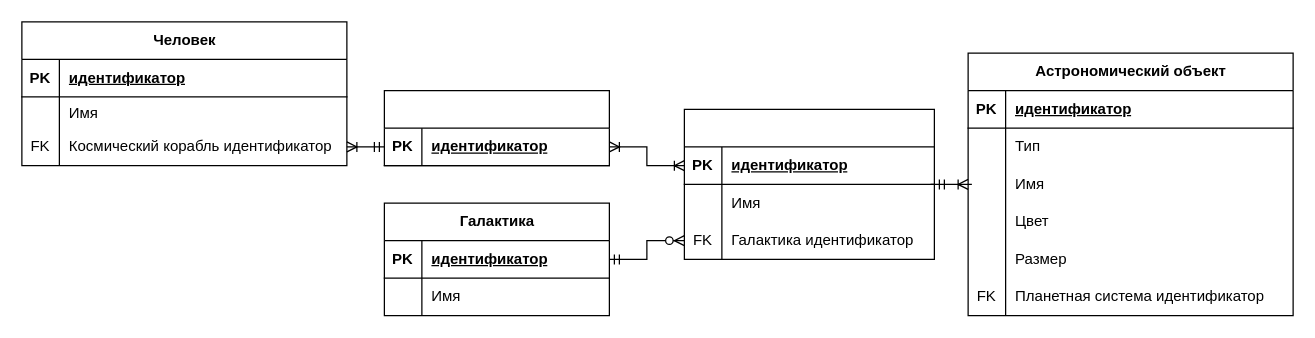
This 1315x338 diagram has some shape labels left out. Each missing label, with the box of its shape:
Космический корабль: (383, 89, 609, 166)
Планетная система: (683, 108, 934, 259)
